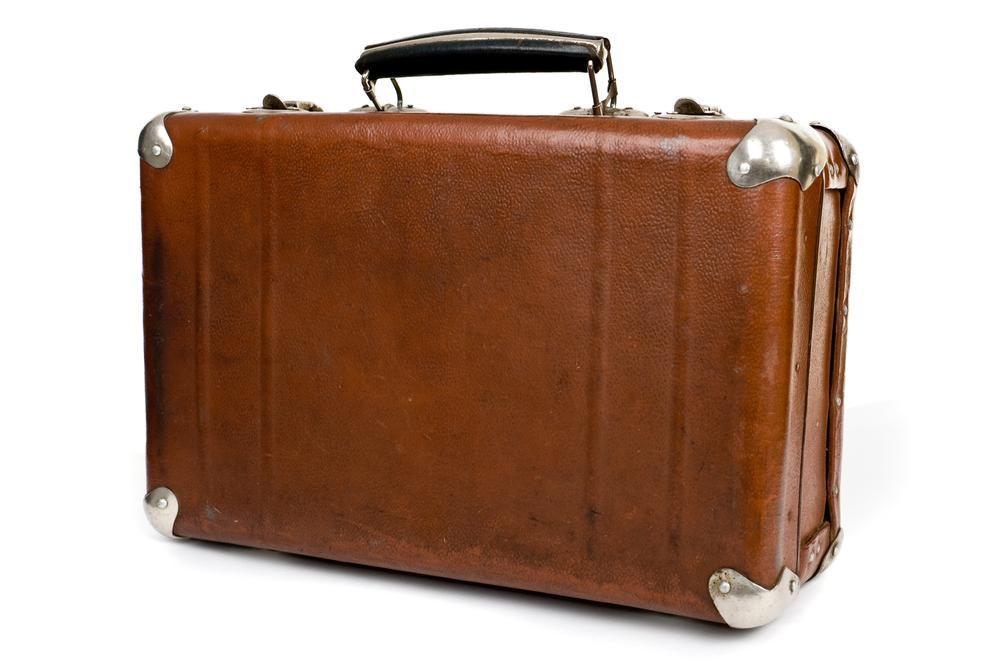suitcase: (131, 90, 872, 634)
